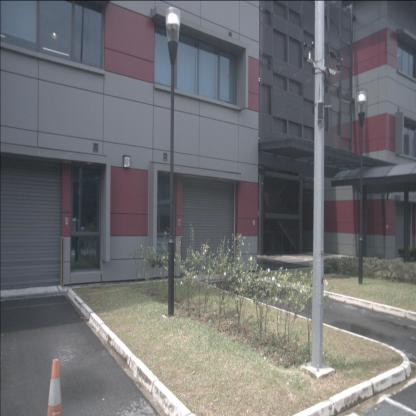movable_object-trafficcone: (46, 358, 64, 416)
